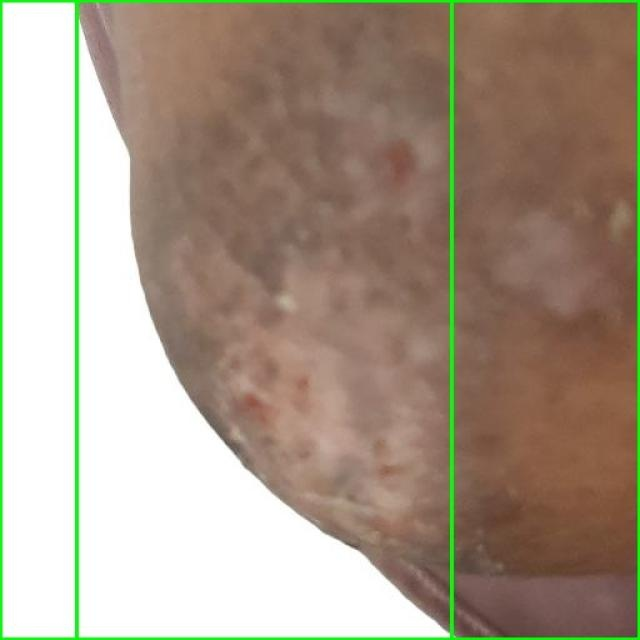Eczema: (76, 0, 639, 639), (0, 0, 451, 639)
